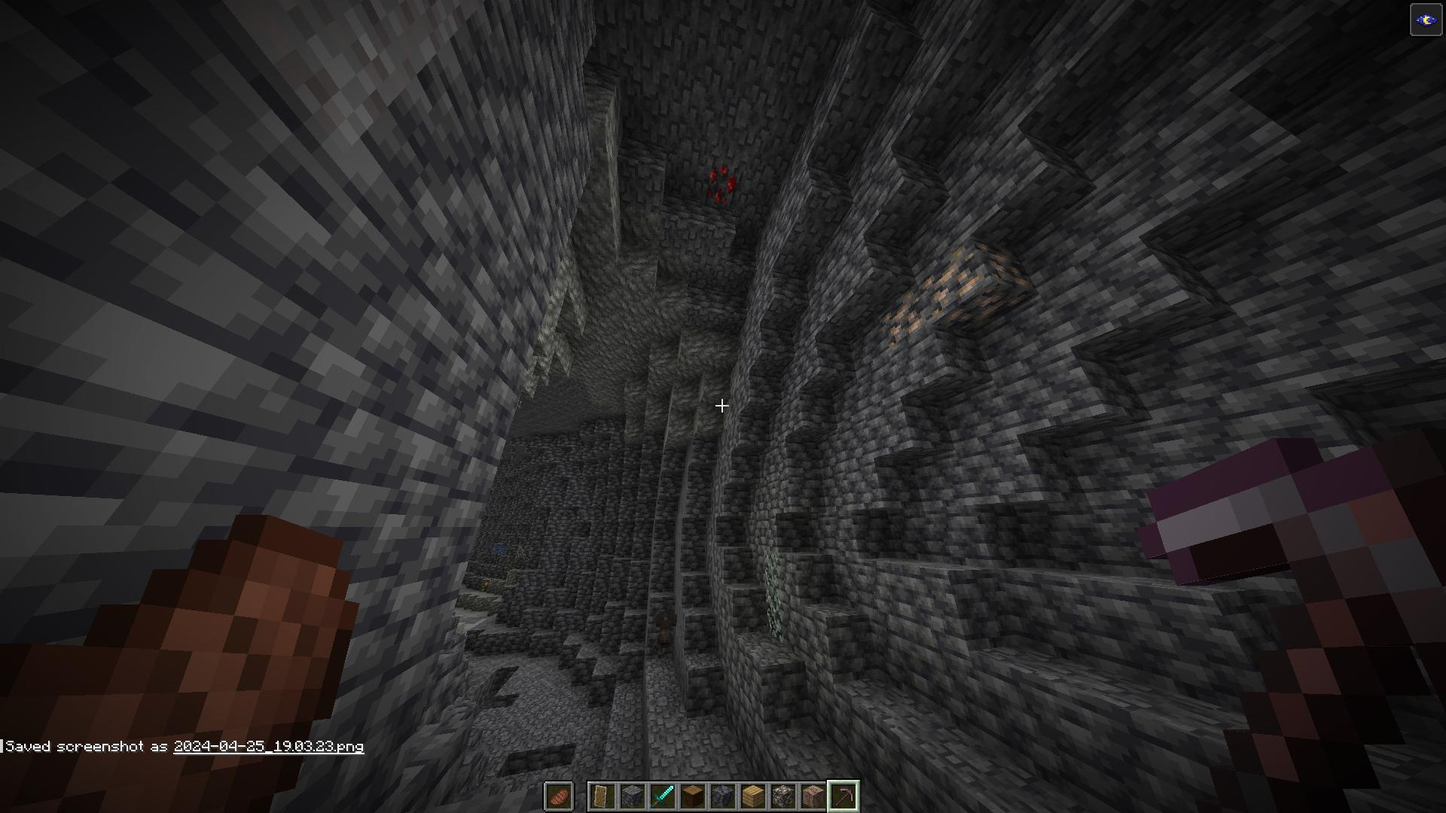iron ore: (940, 291, 1030, 336), (924, 245, 981, 314), (882, 289, 934, 344), (977, 239, 1032, 289)
